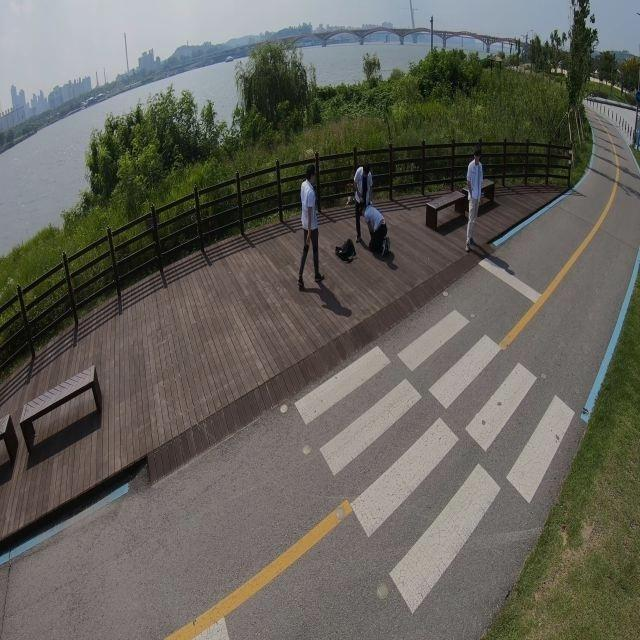fight: (350, 162, 392, 262)
non-fight: (296, 162, 324, 290), (465, 148, 480, 253)
